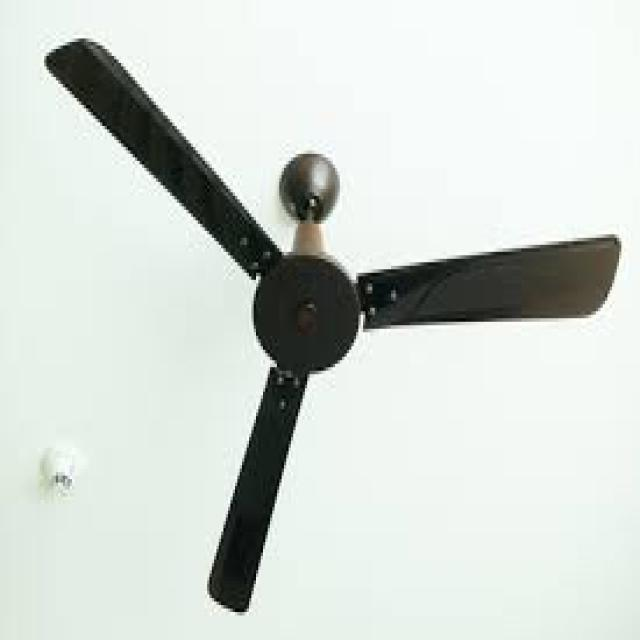fan_off: (45, 32, 620, 617)
